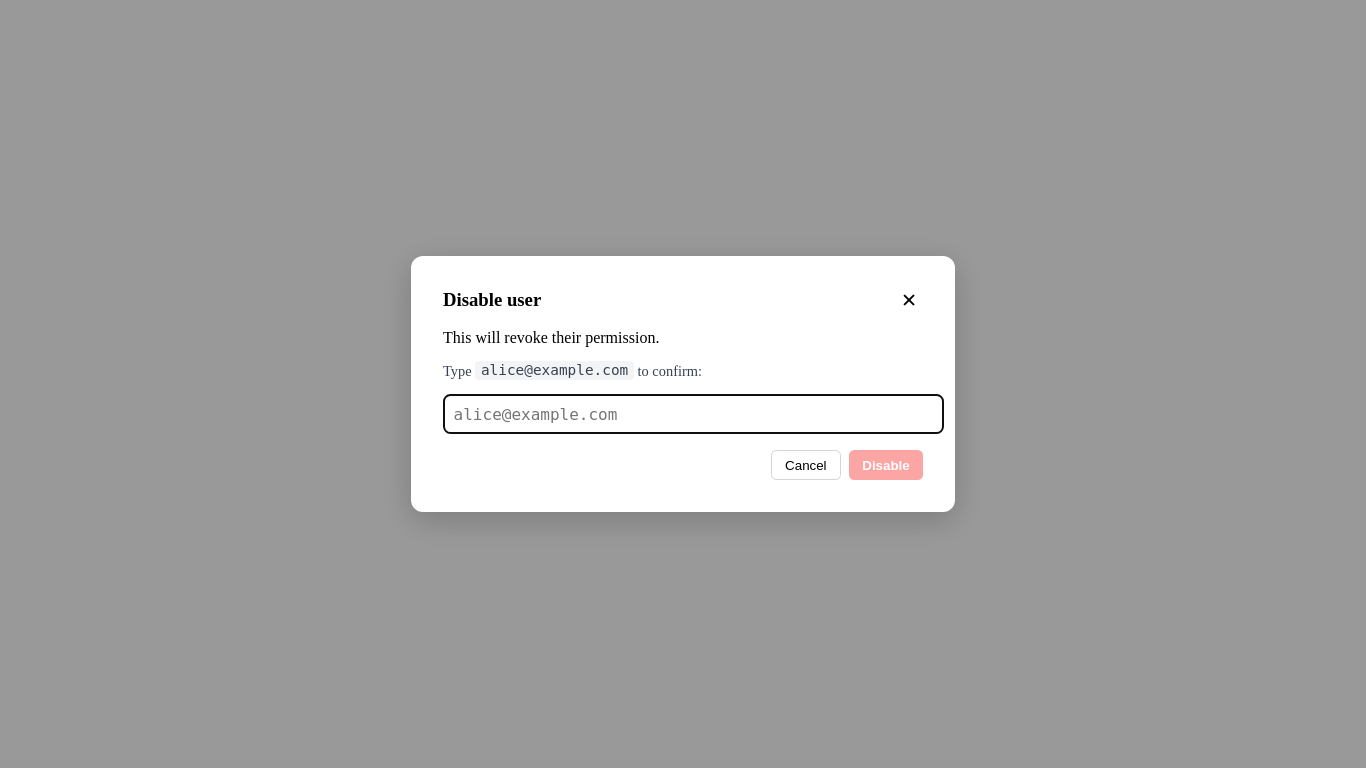
Test: TypedConfirmModal › confirm button is disabled until exact email is typed
This screenshot has width=1366, height=768.
expect the button "Disable" is disabled: met, box [849, 450, 923, 480]
In the field with placeholder "alice@example.com": (694, 414) [443, 394, 944, 434], type "wrong@example.com"
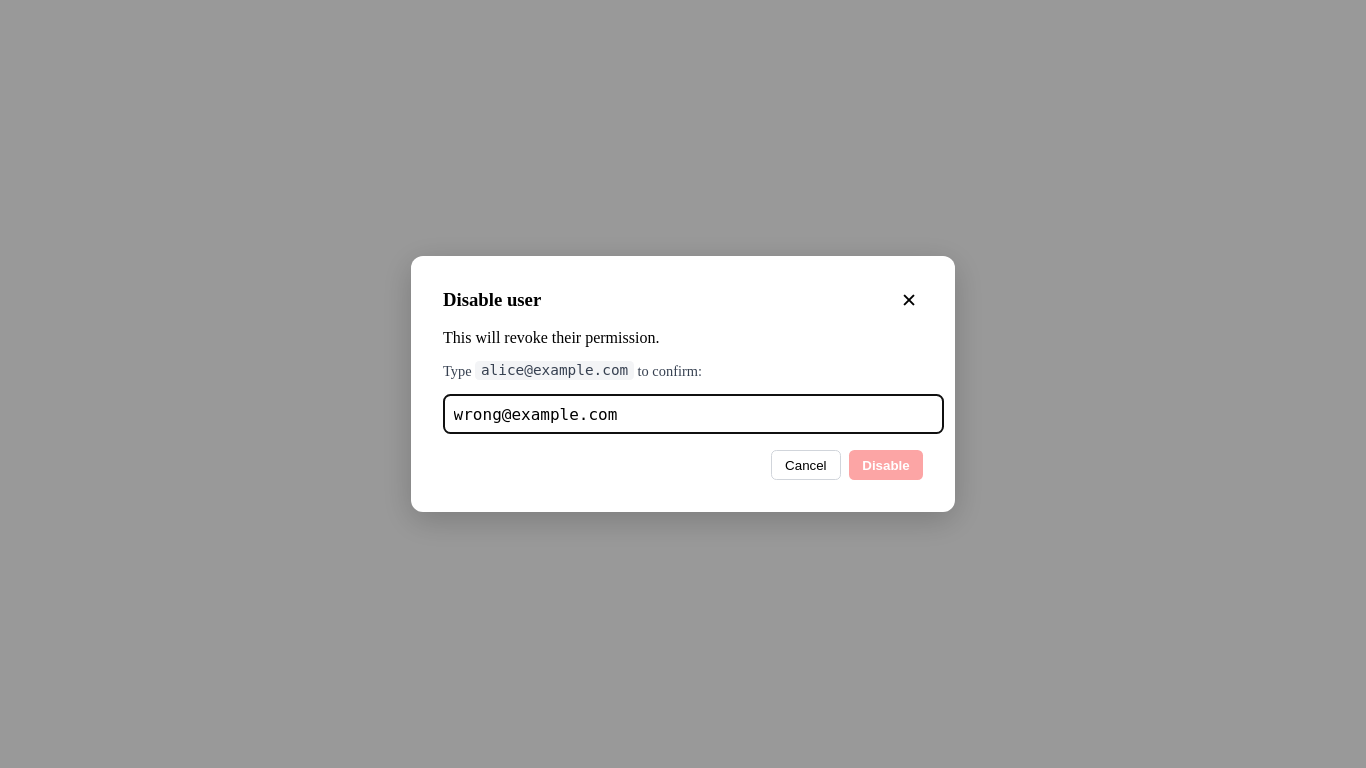
expect the button "Disable" is disabled: met, box [849, 450, 923, 480]
Replace the text in the field with placeholder "alice@example.com" with "alice@example.com": (694, 414) [443, 394, 944, 434]
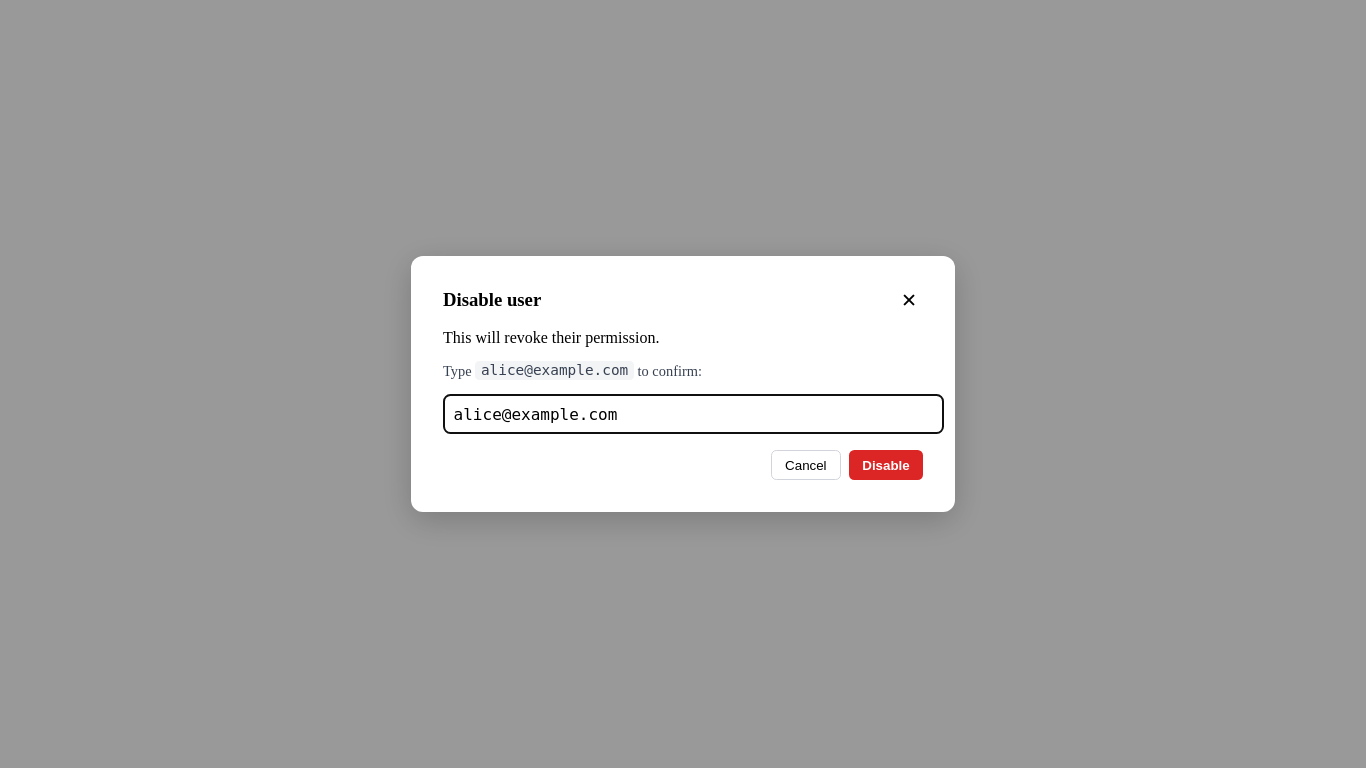
expect the button "Disable" is enabled: met, box [849, 450, 923, 480]
